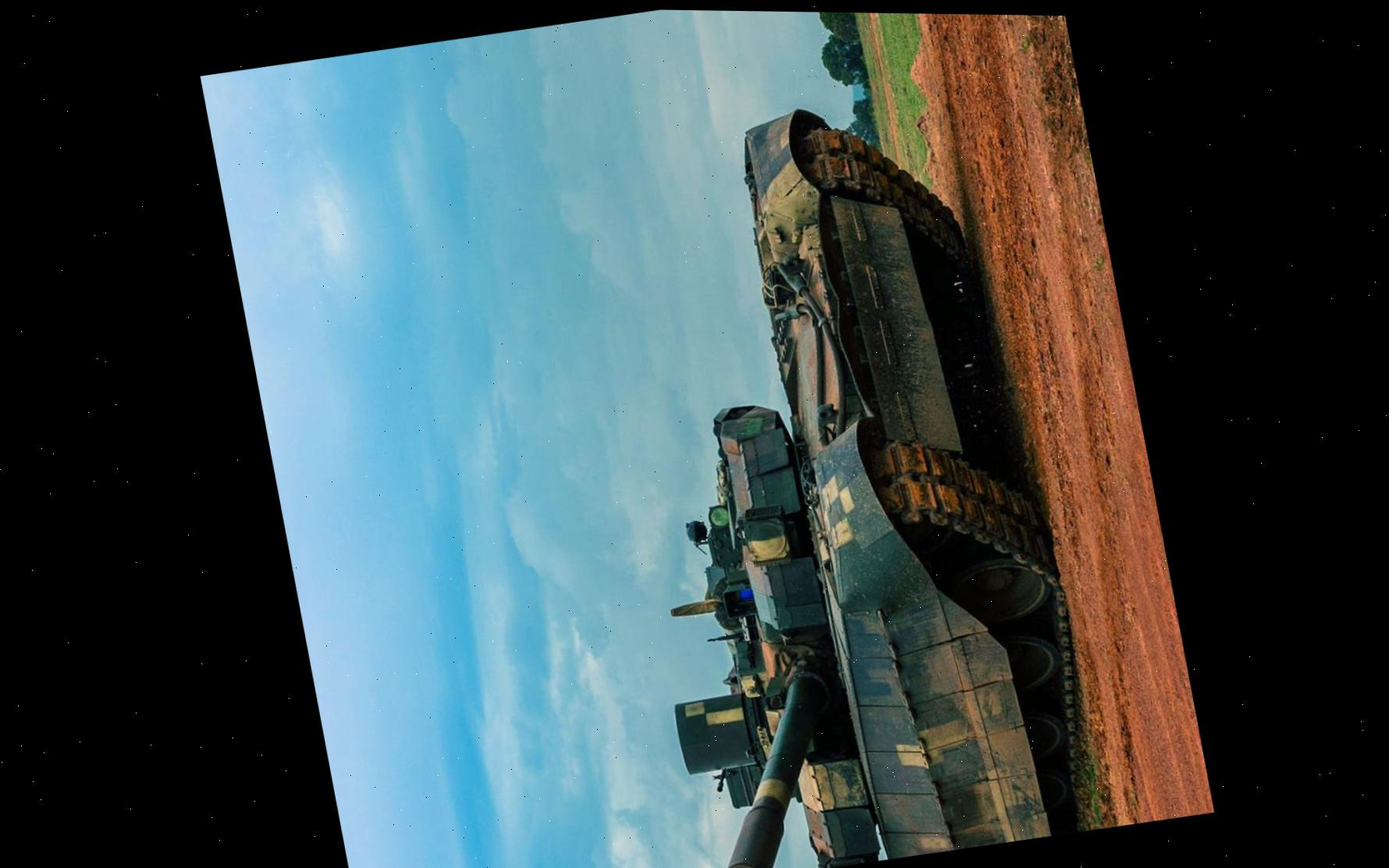tank: (494, 75, 1112, 868)
